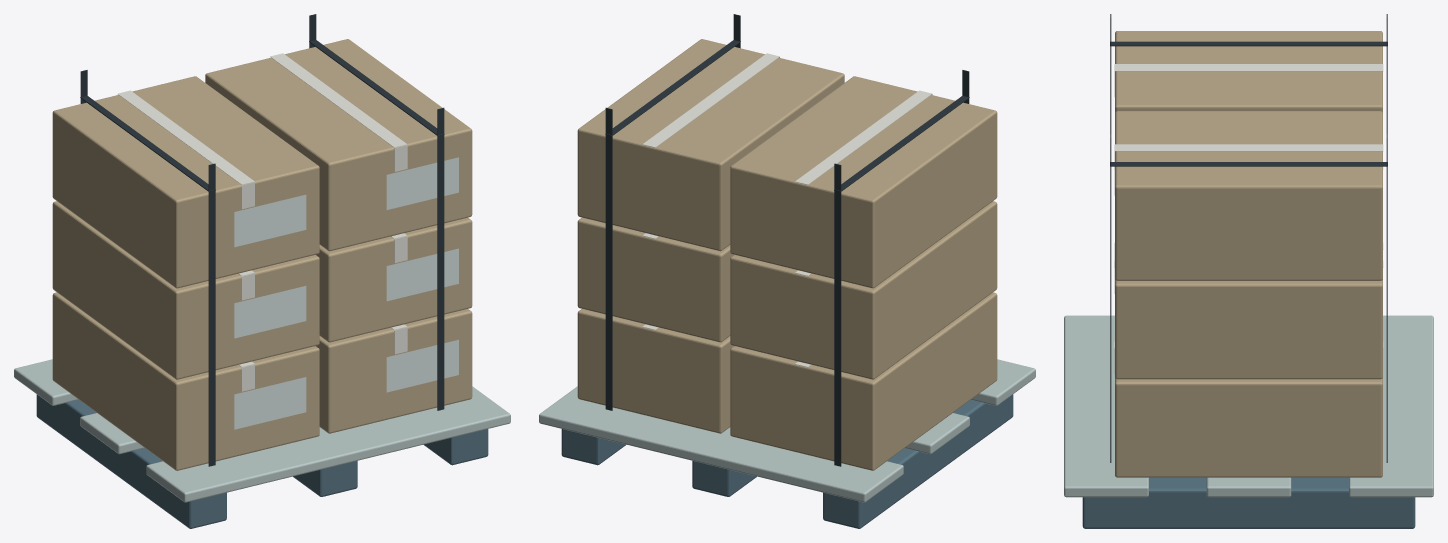
The model's file is OD_PalletLoad_0.fbx.
3 views of the same model, side by side, from view 1: azimuth 30°, elevation 25°; view 2: azimuth 150°, elevation 25°; view 3: azimuth 270°, elevation 25° (orthographic). The views are drawn at different scales.
Parts seen in each view (by area): view 1: OD_PalletLoad_0; view 2: OD_PalletLoad_0; view 3: OD_PalletLoad_0.
Boxes of the visible parts, left/top/right/bottom form: OD_PalletLoad_0: left=14, top=14, right=510, bottom=528; OD_PalletLoad_0: left=539, top=14, right=1035, bottom=528; OD_PalletLoad_0: left=1064, top=14, right=1433, bottom=528.
Bounding box in the file's own units: 120 × 122 × 109.
